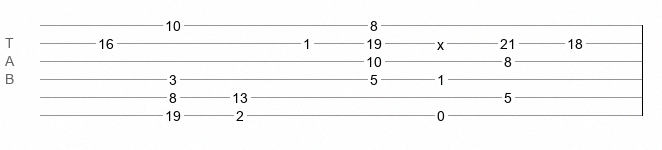0: (437, 108, 445, 118)
1: (303, 36, 311, 46), (437, 72, 445, 82)
10: (165, 18, 181, 28), (366, 54, 382, 64)
13: (232, 90, 248, 100)
16: (98, 36, 114, 46)
18: (567, 36, 583, 46)
19: (165, 108, 181, 118), (366, 36, 382, 46)
2: (236, 108, 244, 118)
21: (500, 36, 516, 46)
3: (169, 72, 177, 82)
5: (370, 72, 378, 82), (504, 90, 512, 100)
8: (169, 90, 177, 100), (370, 18, 378, 28), (504, 54, 512, 64)
x: (437, 37, 444, 45)
